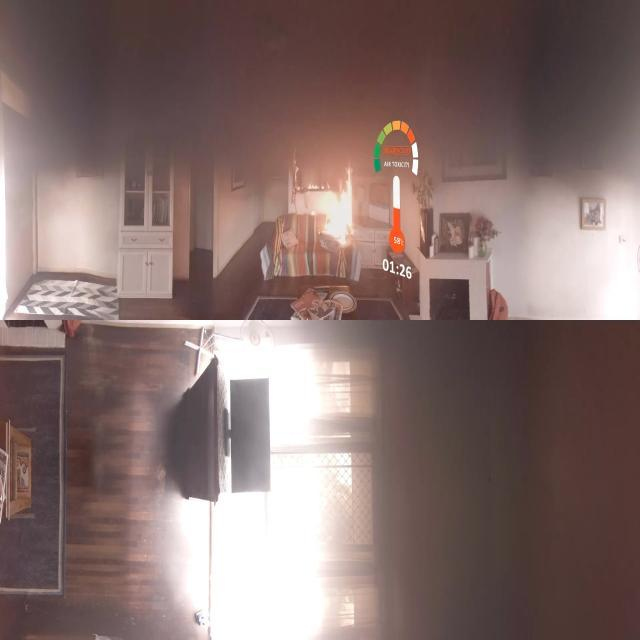Fire: (320, 163, 355, 243)
